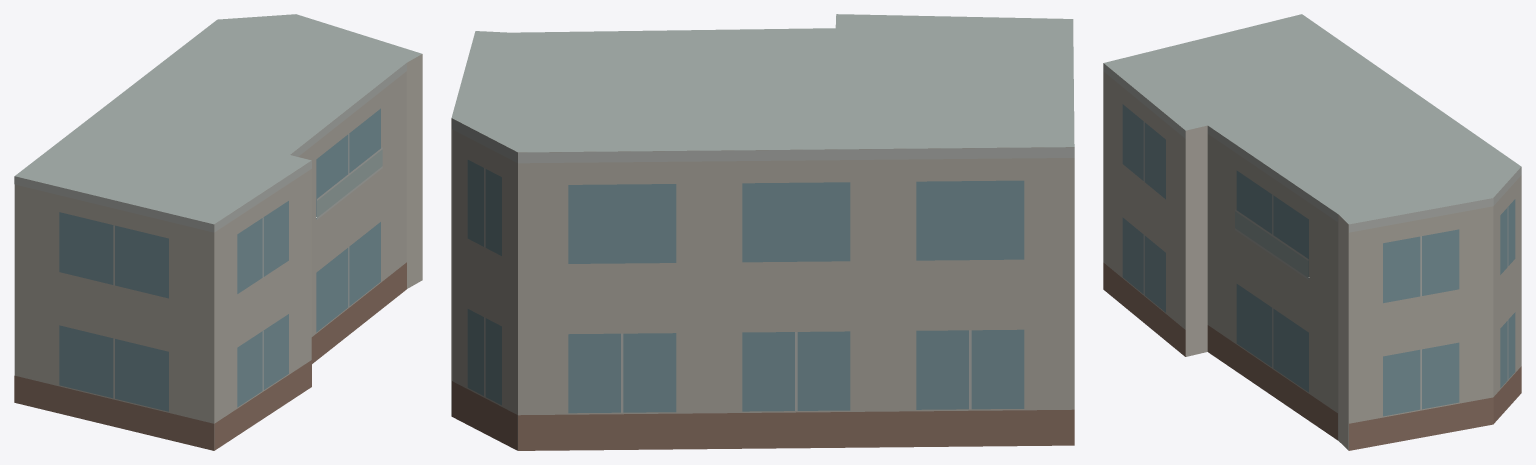
The model's file is survey-upis-32485633.glb.
3 renders of one model, left to right at view 1: azimuth 30°, elevation 25°; view 2: azimuth 150°, elevation 25°; view 3: azimuth 270°, elevation 25°, orthographic. The views are drawn at different scales.
Visible parts, largest first — view 1: survey-upis-32485633.tmp; view 2: survey-upis-32485633.tmp; view 3: survey-upis-32485633.tmp.
Part boxes in pixels (x1,y1,x2,y2): survey-upis-32485633.tmp: (14, 14, 422, 450); survey-upis-32485633.tmp: (451, 14, 1074, 450); survey-upis-32485633.tmp: (1103, 14, 1521, 450).
Bounding box in the file's own units: 13.36 × 6.7 × 11.22.
